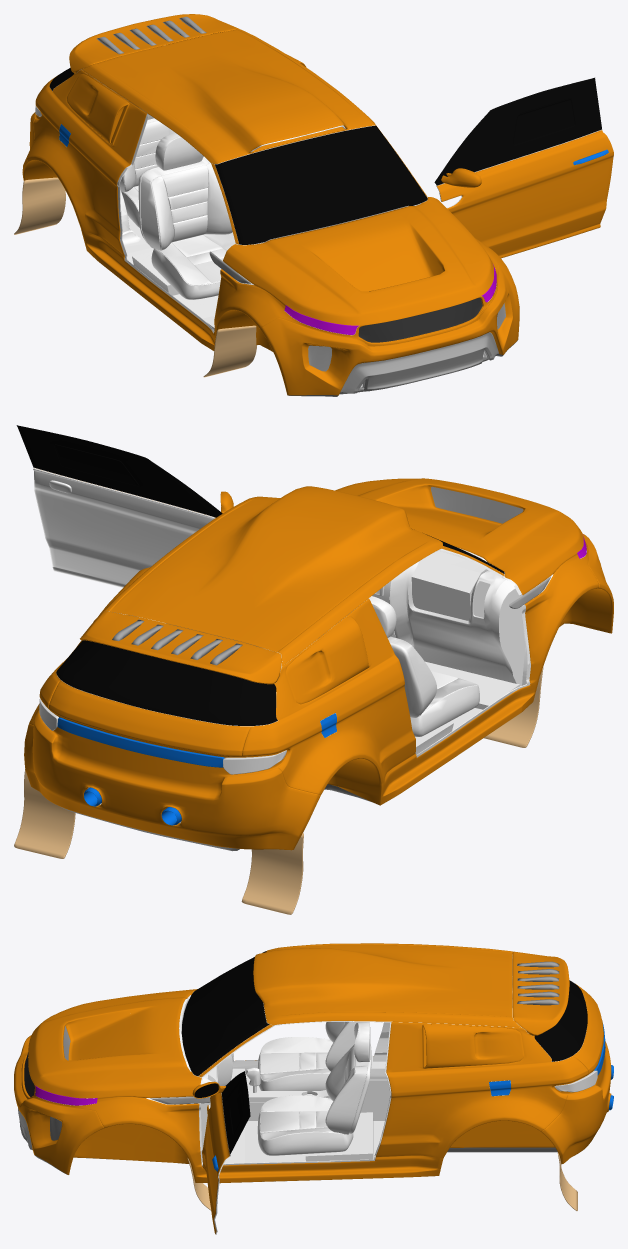
File: SportCar_3_Parts.fbx
The picture shows the model from 3 angles, top to bottom: view 1: azimuth 30°, elevation 25°; view 2: azimuth 150°, elevation 25°; view 3: azimuth 270°, elevation 25°; orthographic projection. The views are drawn at different scales.
Visible parts, largest first — view 1: SportCar_3, Front_Door; view 2: SportCar_3, Front_Door; view 3: SportCar_3, Front_Door.
Part boxes in pixels (x1,y1,x2,y2): SportCar_3: [14, 14, 519, 396]; Front_Door: [434, 77, 613, 258]; SportCar_3: [14, 478, 613, 914]; Front_Door: [16, 425, 233, 587]; SportCar_3: [14, 943, 613, 1210]; Front_Door: [192, 1071, 250, 1234].
Size of the model in its own units: 653 by 310 by 873.
